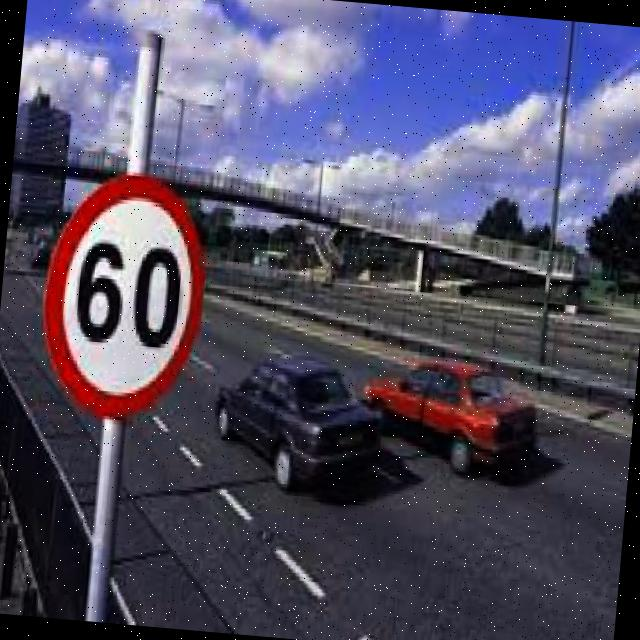Ograniczenie predkosci do 60: (40, 162, 216, 433)
